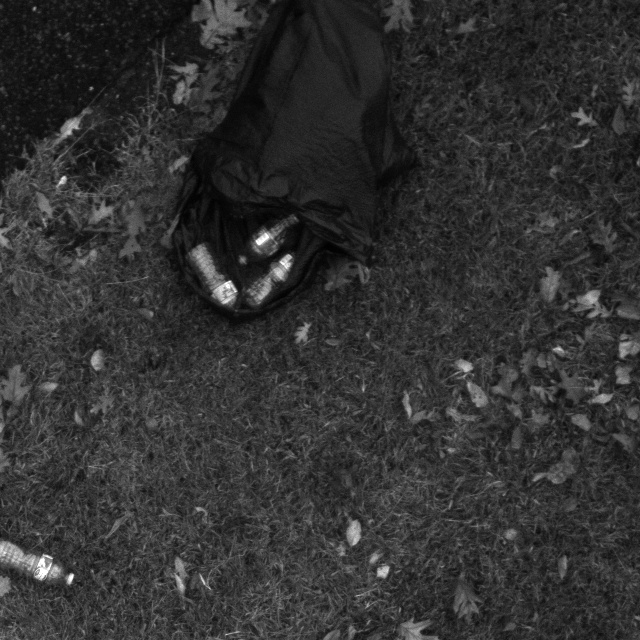bottle: (182, 240, 241, 316), (0, 534, 76, 589), (244, 249, 299, 312), (249, 209, 303, 260)
